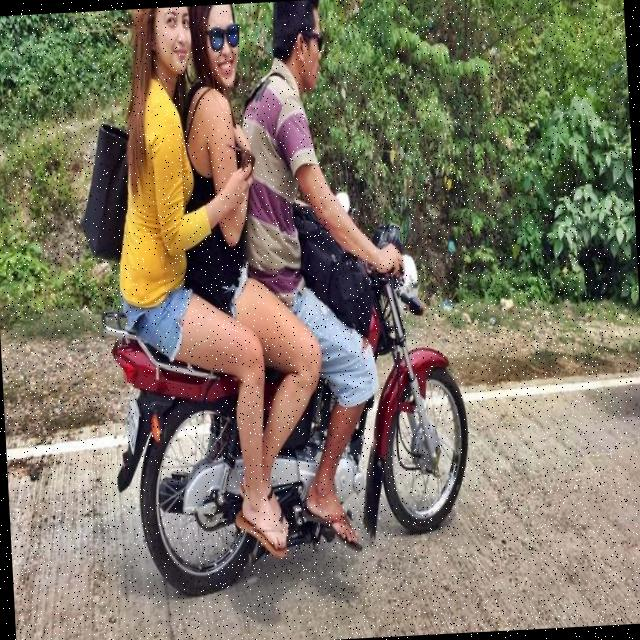Triple riding: (96, 2, 373, 367)
